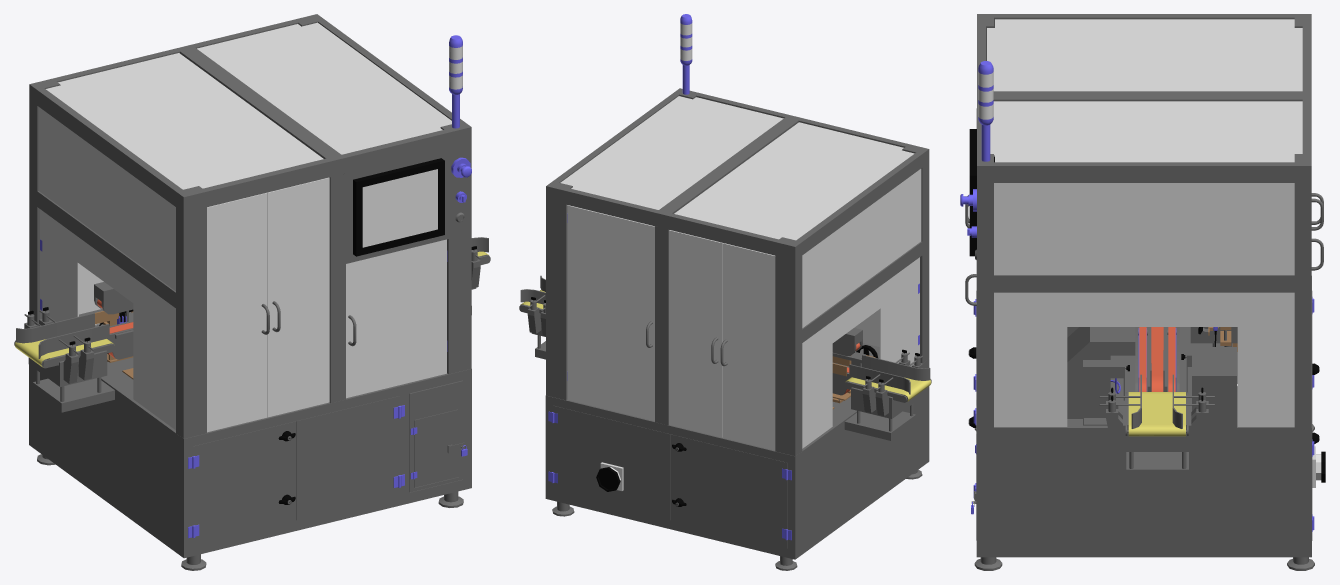
File: PNS.fbx
The picture shows the model from 3 angles, left to right: view 1: azimuth 30°, elevation 25°; view 2: azimuth 150°, elevation 25°; view 3: azimuth 270°, elevation 25°; orthographic projection. The views are drawn at different scales.
Visible parts, largest first — view 1: Machine3_Frame, Machine3_Windows, Machine3_Window_R1, Machine3_Window_R2, Machine3_Window_R3, Machine3_Screen, Machine3_Cluster7, Machine3_Unique, Machine3_Cluster8, Machine3_Cluster8.002, Machine3_Cluster3, Machine3_Window_L1 (+2 smaller); view 2: Machine3_Frame, Machine3_Windows, Machine3_Window_L3, Machine3_Window_L1, Machine3_Window_L2, Machine3_Cluster7, Machine3_Unique, Machine3_Cluster8.002, Machine3_Cluster9, Machine3_Cluster7.002, Machine3_Cluster8, Machine3_Cluster5 (+3 smaller); view 3: Machine3_Windows, Machine3_Frame, Machine3_RejectionBin_2, Machine3_Cluster7.002, Machine3_RejectionBin_1, Machine3_Unique, Machine3_Conveyor_6, Machine3_Cluster6, Machine3_Cluster4, Machine3_Conveyor_2, Machine3_Cluster9, Machine3_Cluster2 (+2 smaller).
Boxes of the visible parts, bbox=[...] form: Machine3_Frame: bbox=[29, 14, 471, 570]; Machine3_Windows: bbox=[38, 22, 451, 430]; Machine3_Window_R1: bbox=[267, 177, 329, 417]; Machine3_Window_R2: bbox=[207, 192, 269, 432]; Machine3_Window_R3: bbox=[346, 239, 447, 398]; Machine3_Screen: bbox=[362, 169, 437, 247]; Machine3_Cluster7: bbox=[14, 310, 115, 412]; Machine3_Unique: bbox=[40, 35, 471, 538]; Machine3_Cluster8: bbox=[16, 310, 94, 343]; Machine3_Cluster8.002: bbox=[38, 324, 109, 358]; Machine3_Cluster3: bbox=[94, 282, 133, 314]; Machine3_Window_L1: bbox=[79, 263, 103, 314]; Machine3_Frame: bbox=[545, 88, 929, 570]; Machine3_Windows: bbox=[560, 96, 921, 448]; Machine3_Window_L3: bbox=[567, 205, 654, 420]; Machine3_Window_L1: bbox=[720, 243, 775, 450]; Machine3_Window_L2: bbox=[669, 230, 722, 437]; Machine3_Cluster7: bbox=[844, 352, 931, 440]; Machine3_Unique: bbox=[548, 14, 919, 540]; Machine3_Cluster8.002: bbox=[862, 352, 930, 380]; Machine3_Cluster9: bbox=[596, 443, 686, 506]; Machine3_Cluster7.002: bbox=[519, 300, 545, 359]; Machine3_Cluster8: bbox=[849, 364, 910, 394]; Machine3_Cluster5: bbox=[832, 352, 875, 409]; Machine3_Windows: bbox=[987, 19, 1302, 426]; Machine3_Frame: bbox=[969, 14, 1314, 570]; Machine3_RejectionBin_2: bbox=[1192, 347, 1236, 526]; Machine3_Cluster7.002: bbox=[1106, 392, 1208, 479]; Machine3_RejectionBin_1: bbox=[1067, 327, 1135, 418]; Machine3_Unique: bbox=[960, 61, 1314, 531]; Machine3_Conveyor_6: bbox=[1128, 392, 1185, 436]; Machine3_Cluster6: bbox=[1083, 327, 1237, 425]; Machine3_Cluster4: bbox=[1135, 327, 1179, 391]; Machine3_Conveyor_2: bbox=[1151, 327, 1163, 391]; Machine3_Cluster9: bbox=[968, 347, 1325, 506]; Machine3_Cluster2: bbox=[1190, 327, 1237, 351].
Bounding box in the file's own units: 381 × 376 × 247.
